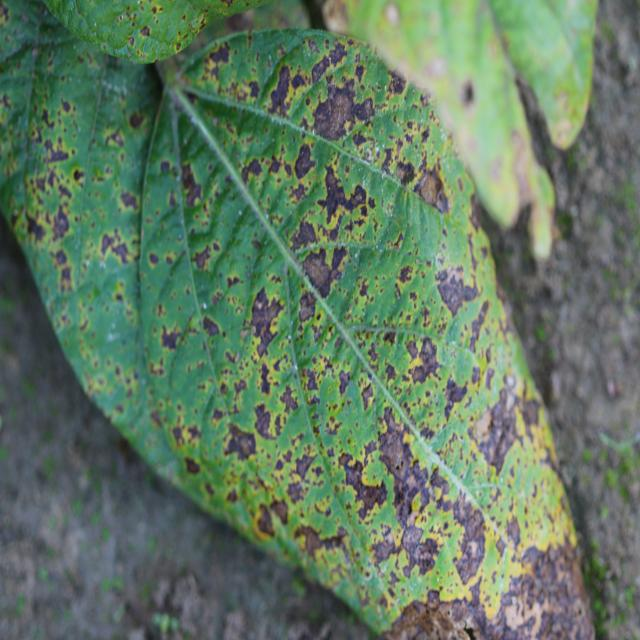Bacterial_Blight: (484, 530, 591, 634), (479, 386, 530, 473), (315, 162, 369, 231), (394, 515, 446, 581), (315, 85, 370, 147), (303, 241, 355, 305), (342, 449, 387, 515), (375, 418, 416, 489), (248, 285, 288, 356), (509, 132, 539, 212), (454, 520, 489, 586), (436, 265, 477, 319), (306, 44, 351, 88), (409, 341, 445, 388), (295, 522, 336, 560), (268, 63, 295, 114), (416, 166, 447, 209), (99, 228, 135, 265), (223, 422, 257, 461), (180, 160, 206, 209), (289, 216, 318, 254), (442, 371, 469, 411), (401, 523, 426, 561), (292, 142, 316, 181), (252, 403, 275, 439), (293, 451, 317, 483), (42, 138, 71, 164), (25, 210, 47, 243), (160, 322, 185, 351), (51, 206, 71, 241), (278, 384, 299, 417), (474, 407, 494, 441), (297, 291, 317, 324), (393, 158, 416, 186), (256, 505, 276, 536), (192, 245, 214, 273), (243, 156, 264, 185), (269, 498, 289, 527), (258, 363, 274, 397), (387, 70, 406, 96), (336, 368, 352, 397), (104, 127, 125, 149), (202, 315, 221, 339), (119, 190, 139, 212), (397, 263, 414, 286), (460, 80, 475, 106), (59, 265, 73, 290), (129, 111, 146, 130), (184, 456, 201, 475), (72, 167, 85, 183), (148, 252, 159, 267), (140, 25, 150, 37), (128, 35, 135, 46), (176, 42, 181, 50)
Soybean: (110, 29, 594, 640)
